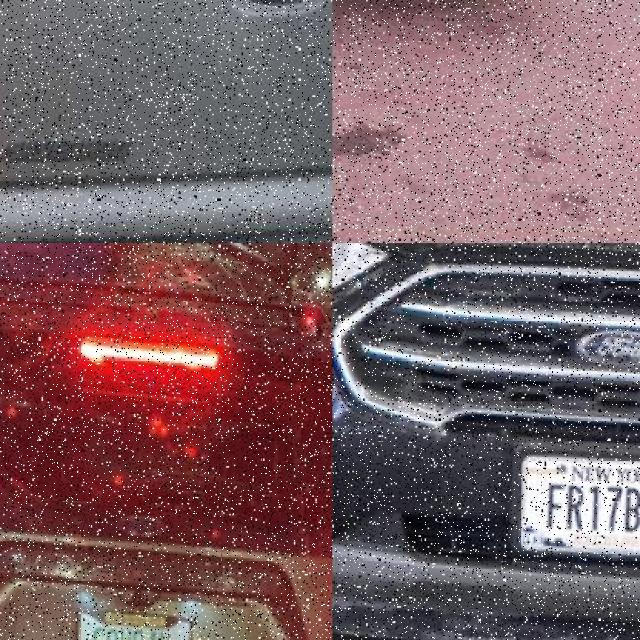licenseplate: (499, 439, 640, 565), (67, 610, 185, 640)
